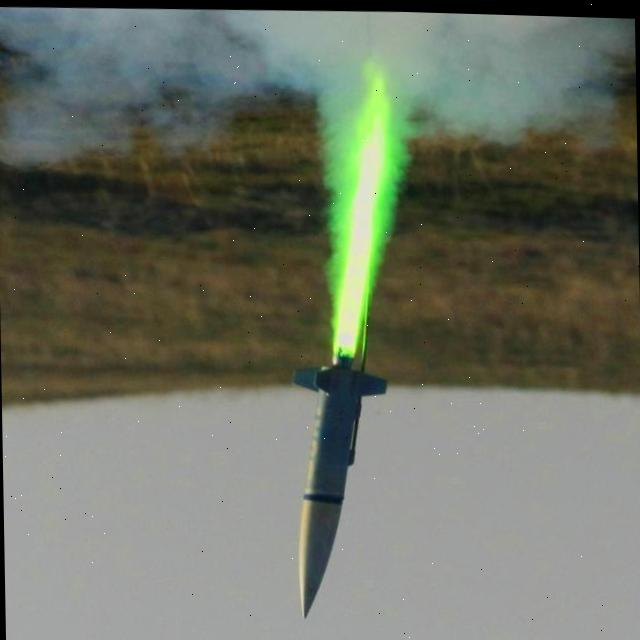missile: (288, 348, 384, 622)
